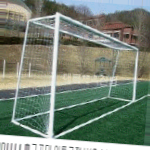goals: (12, 11, 140, 139)
